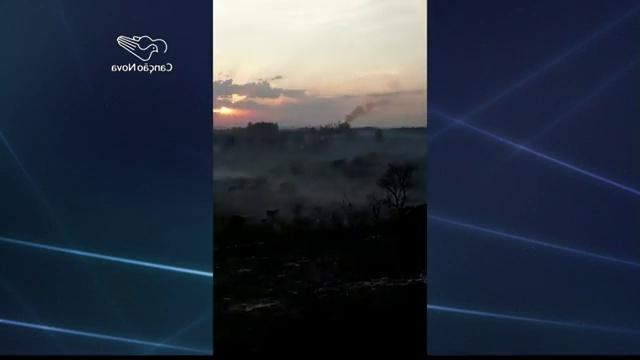smoke: (223, 153, 321, 204)
